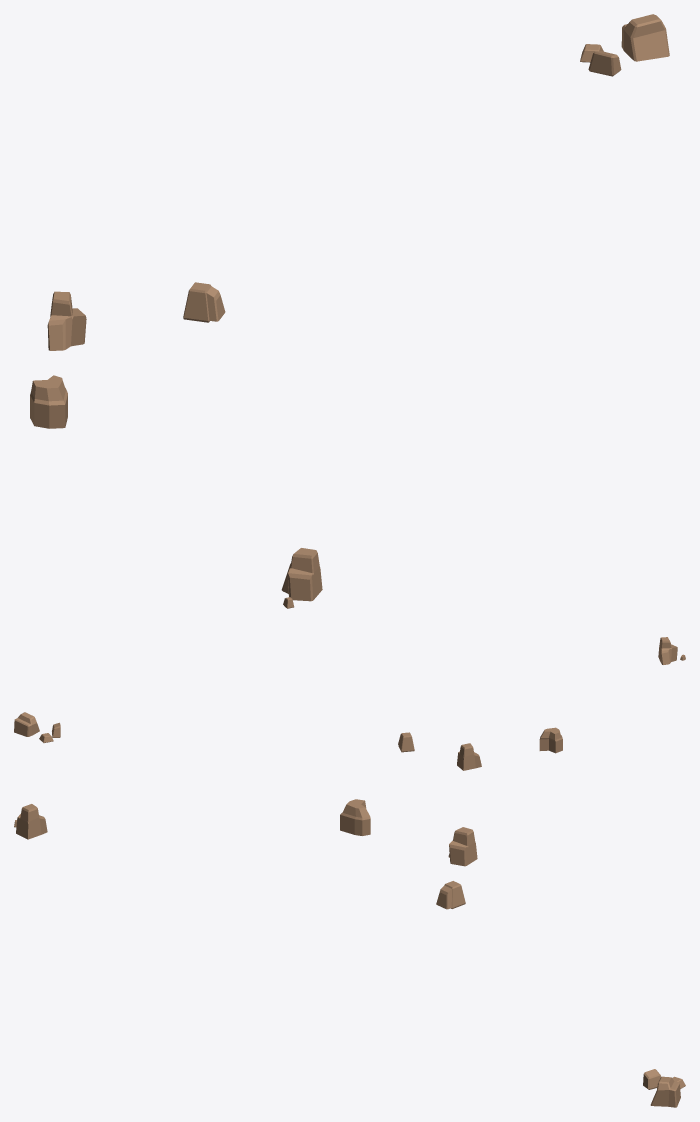
The model's file is small_rock_1.fbx.
The picture shows the model from 3 angles, top to bottom: view 1: azimuth 30°, elevation 25°; view 2: azimuth 150°, elevation 25°; view 3: azimuth 270°, elevation 25°; orthographic projection. The views are drawn at different scales.
Visible parts, largest first — view 1: Cube.018; view 2: Cube.018; view 3: Cube.018.
Part boxes in pixels (x1,y1,x2,y2): Cube.018: (30, 14, 669, 608); Cube.018: (14, 637, 685, 770); Cube.018: (14, 799, 685, 1107).
Size of the model in its own units: 0.9622 by 0.0485 by 0.9588.
